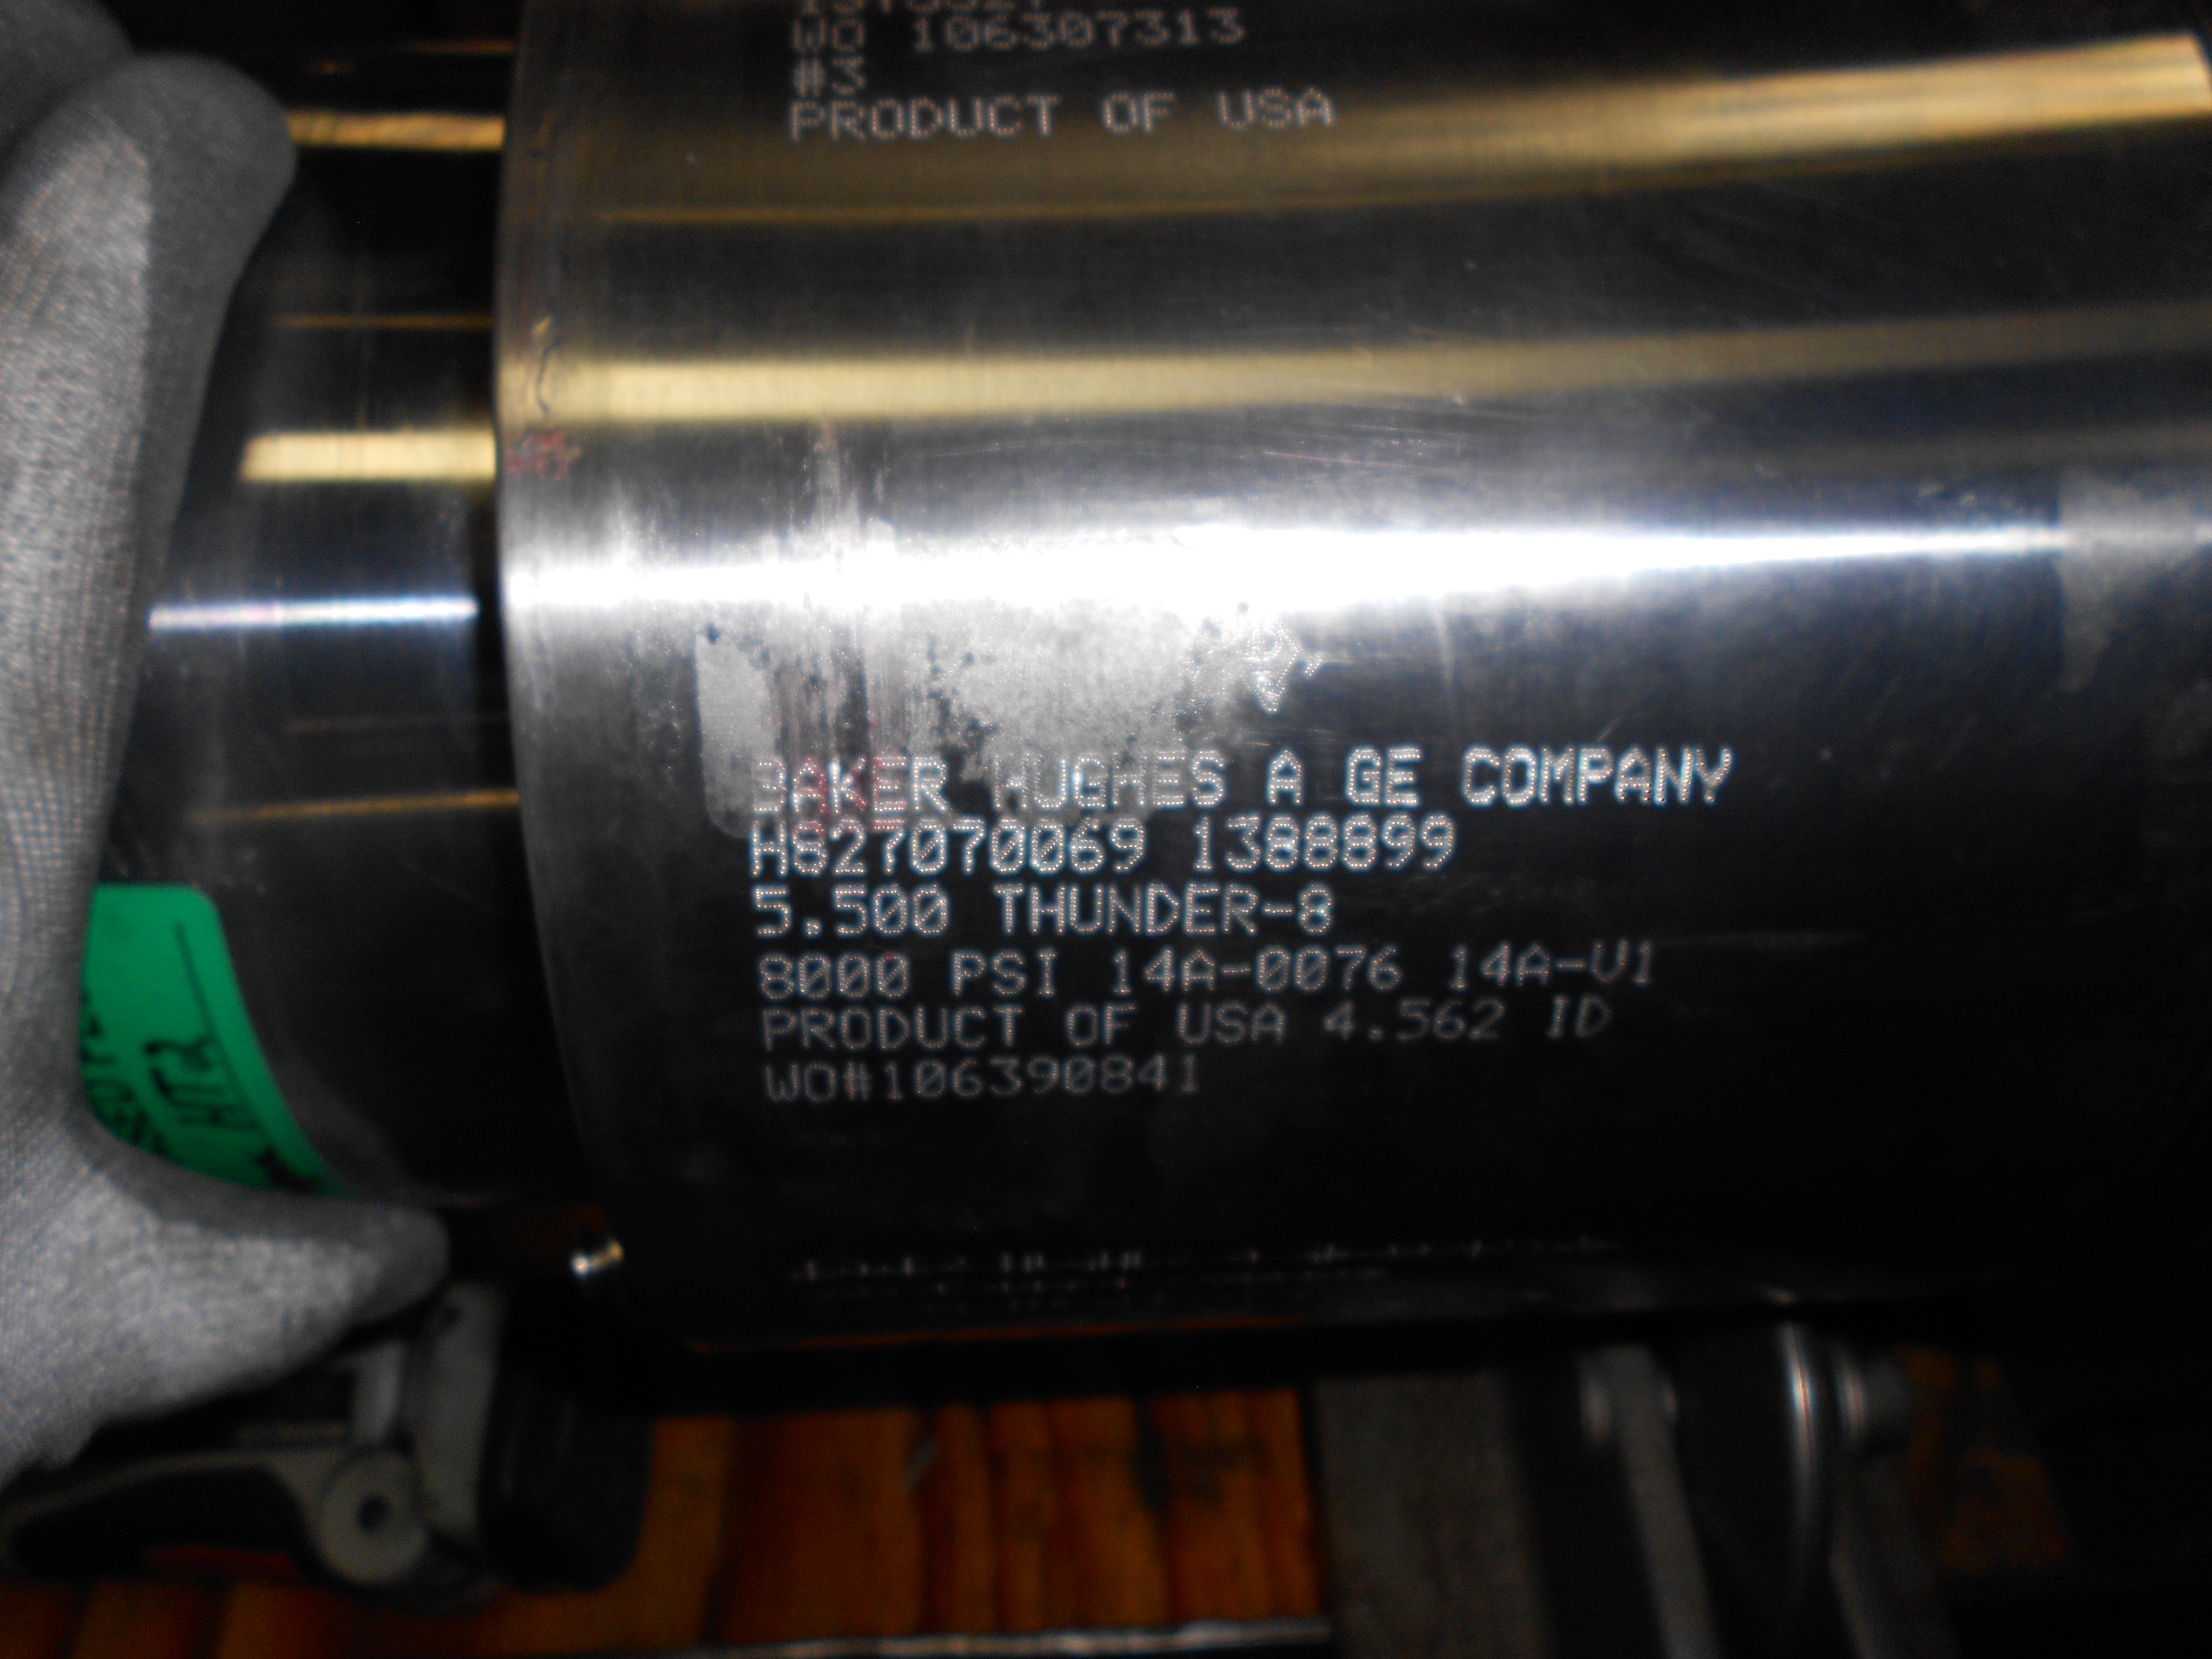character: (1381, 742, 1425, 807), (1460, 741, 1501, 807), (1575, 742, 1616, 809), (1609, 742, 1651, 809), (1500, 744, 1541, 809), (1538, 744, 1580, 809), (1651, 744, 1693, 809), (1693, 742, 1735, 807), (787, 755, 827, 816), (991, 753, 1031, 814), (1031, 751, 1071, 812), (1109, 748, 1150, 809), (1148, 746, 1188, 807), (1266, 746, 1306, 807), (749, 816, 789, 877), (791, 816, 831, 877), (867, 814, 907, 875), (909, 814, 949, 875), (948, 814, 988, 875), (986, 816, 1026, 877), (1026, 816, 1066, 877), (1066, 814, 1106, 875), (1108, 814, 1148, 875), (1221, 812, 1261, 873), (1261, 812, 1301, 873), (1301, 810, 1341, 871), (829, 878, 869, 939), (869, 878, 909, 939), (911, 878, 951, 939), (986, 878, 1026, 939), (1028, 878, 1068, 939), (1066, 877, 1106, 938), (1143, 877, 1183, 938), (1183, 877, 1223, 938), (1296, 878, 1336, 939), (747, 755, 787, 814), (827, 755, 867, 814), (869, 755, 909, 814), (913, 755, 953, 814), (831, 816, 871, 875), (752, 880, 792, 939), (1104, 878, 1144, 938), (1378, 812, 1418, 871), (1416, 814, 1456, 873), (1069, 751, 1108, 812), (1186, 748, 1224, 807), (1221, 878, 1259, 938), (1341, 812, 1379, 871), (1345, 746, 1383, 805), (873, 948, 911, 1002), (836, 1002, 874, 1056), (913, 1002, 951, 1056), (1292, 941, 1331, 995), (1477, 938, 1515, 992), (796, 950, 834, 1002), (834, 950, 873, 1002), (951, 948, 989, 1000), (989, 948, 1028, 1000), (874, 1002, 913, 1054), (991, 1000, 1029, 1053), (1141, 945, 1179, 997), (1179, 945, 1217, 997), (1103, 999, 1141, 1051), (1254, 943, 1292, 995), (1332, 943, 1371, 995), (1367, 945, 1406, 997), (1177, 993, 1216, 1046), (1212, 995, 1251, 1047), (1249, 997, 1287, 1049), (953, 1000, 989, 1054), (1062, 997, 1099, 1051), (758, 951, 794, 1004), (759, 1004, 796, 1056), (798, 1004, 834, 1056), (1515, 939, 1552, 992), (1590, 936, 1629, 985), (1430, 995, 1468, 1044), (1468, 995, 1507, 1044), (1190, 812, 1221, 871), (1320, 997, 1357, 1047), (1395, 993, 1432, 1044), (1575, 992, 1611, 1042), (789, 99, 827, 145), (829, 98, 867, 143), (867, 96, 906, 141), (907, 94, 946, 139), (948, 94, 986, 139), (988, 94, 1026, 139), (1026, 94, 1064, 139), (1294, 85, 1332, 131), (1103, 91, 1141, 134), (1139, 91, 1177, 134), (1217, 87, 1256, 131), (1254, 87, 1292, 131), (838, 1060, 874, 1103), (913, 1058, 949, 1101), (948, 1056, 984, 1100), (1026, 1054, 1062, 1098), (1097, 1053, 1134, 1096), (1207, 7, 1245, 47), (831, 56, 869, 96), (791, 58, 829, 98), (763, 1061, 799, 1103), (799, 1061, 836, 1103), (1061, 1054, 1097, 1096), (1136, 1053, 1172, 1094), (988, 1056, 1022, 1100), (1019, 12, 1055, 51), (1057, 12, 1094, 51), (1094, 10, 1130, 49), (791, 17, 826, 58), (1036, 946, 1062, 999), (942, 16, 979, 52), (981, 14, 1017, 51), (1132, 10, 1169, 47), (827, 17, 862, 56), (1108, 945, 1134, 995), (1630, 938, 1656, 986), (1547, 992, 1569, 1040), (1174, 9, 1202, 47), (909, 16, 937, 52), (1179, 1053, 1204, 1094), (881, 1060, 906, 1101), (1449, 945, 1470, 992), (1261, 901, 1294, 918), (1221, 960, 1254, 978), (798, 917, 824, 938), (1554, 957, 1587, 972), (1366, 1026, 1386, 1042)
